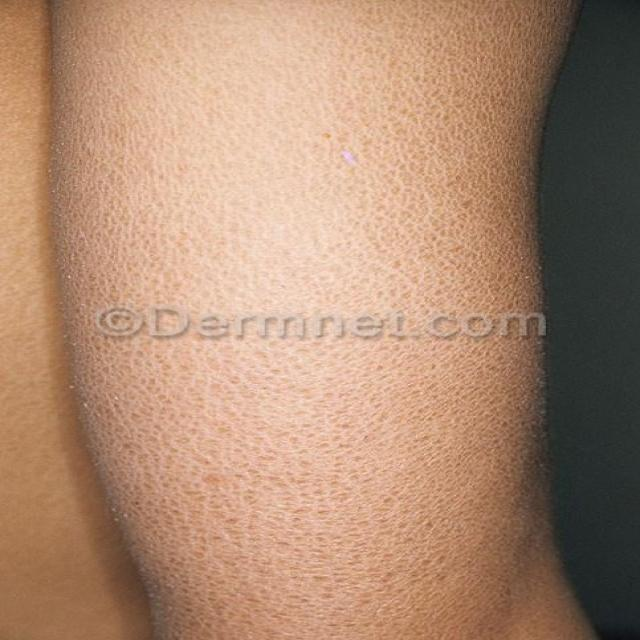liquenificacion 1: (45, 0, 608, 639)
